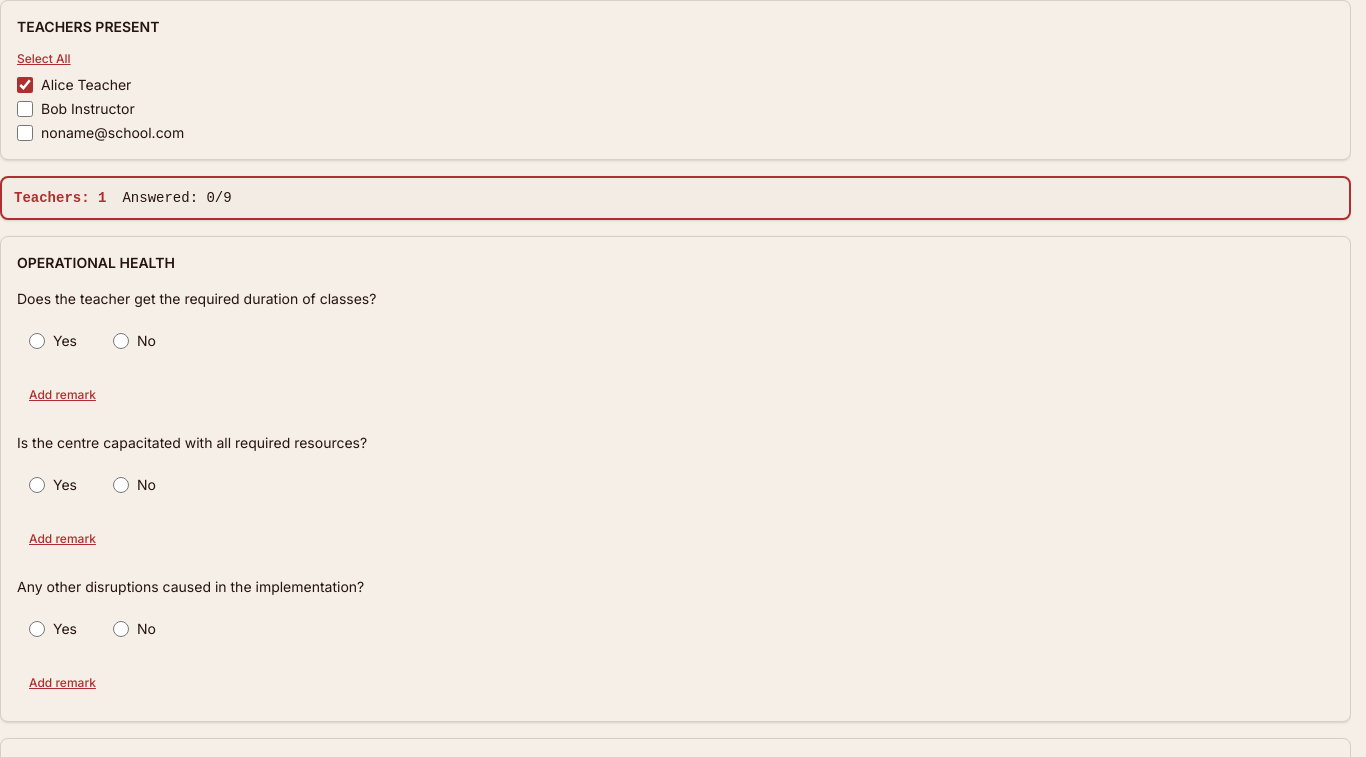
Test: AFTeamInteractionForm › question interaction › Add remark toggle reveals remark textarea
Expected: the radio button with test id "af-team-op_class_duration-yes" is shown, [29,333,45,349]
Find and click "Add remark" button (first one)
Click the 1st button "Add remark": (62, 395) [17,373,108,417]
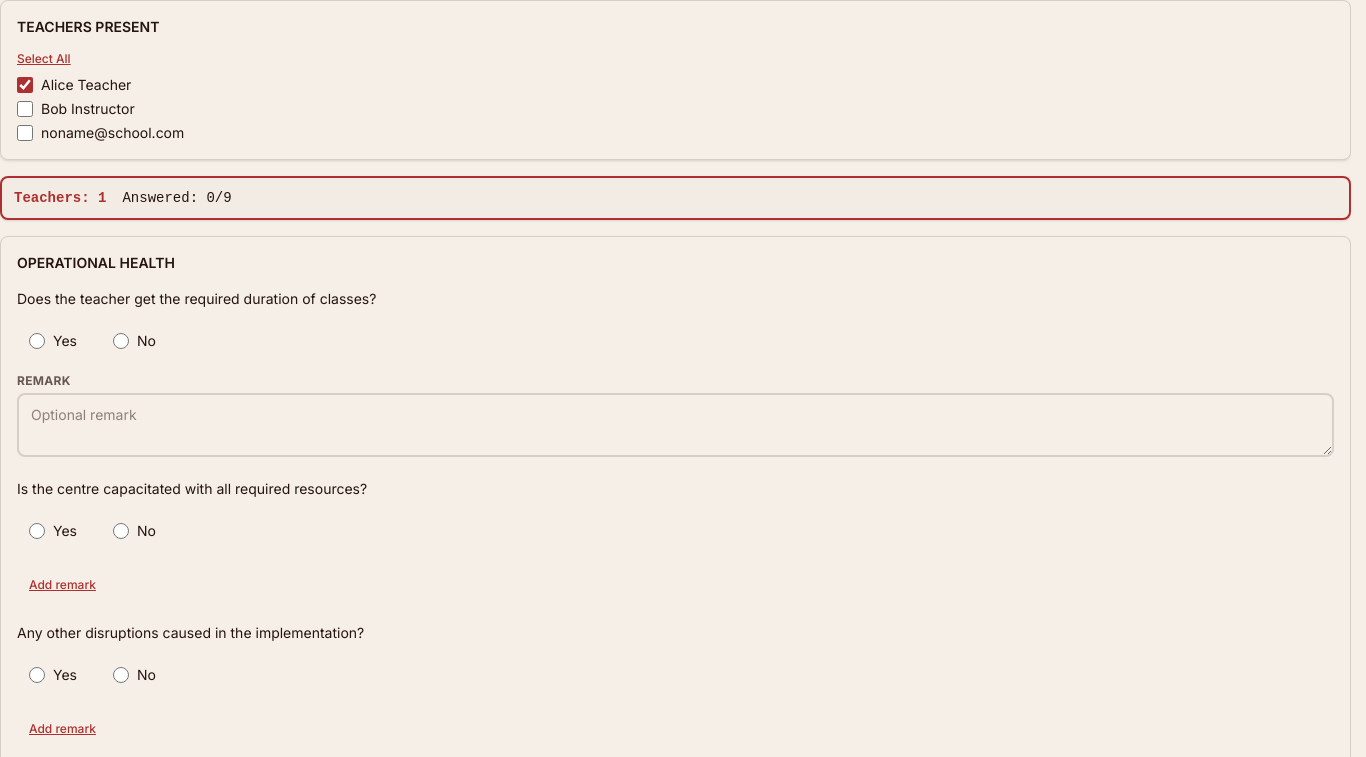
Expected: the text box with test id "af-team-op_class_duration-remark" is shown, [17,393,1334,457]
